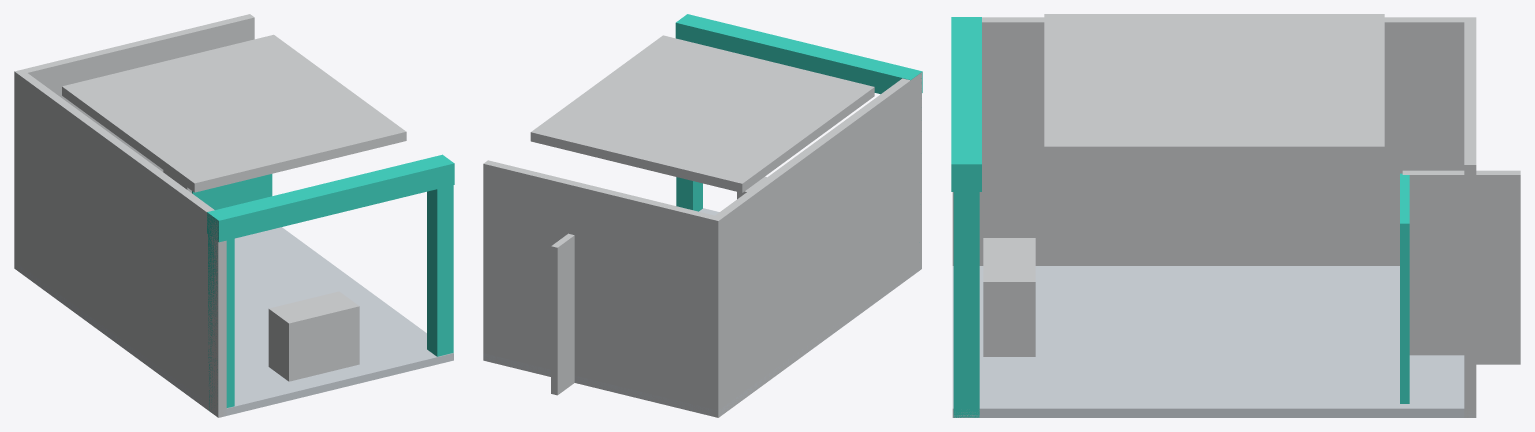
The picture shows the model from 3 angles, left to right: view 1: azimuth 30°, elevation 25°; view 2: azimuth 150°, elevation 25°; view 3: azimuth 270°, elevation 25°; orthographic projection. The views are drawn at different scales.
Visible parts, largest first — view 1: Exhibition Booth Concept; view 2: Exhibition Booth Concept; view 3: Exhibition Booth Concept.
Part boxes in pixels (x1,y1,x2,y2): Exhibition Booth Concept: (14, 14, 454, 417); Exhibition Booth Concept: (483, 14, 922, 417); Exhibition Booth Concept: (951, 14, 1520, 417).
Bounding box in the file's own units: 4 × 3.34 × 6.52.
